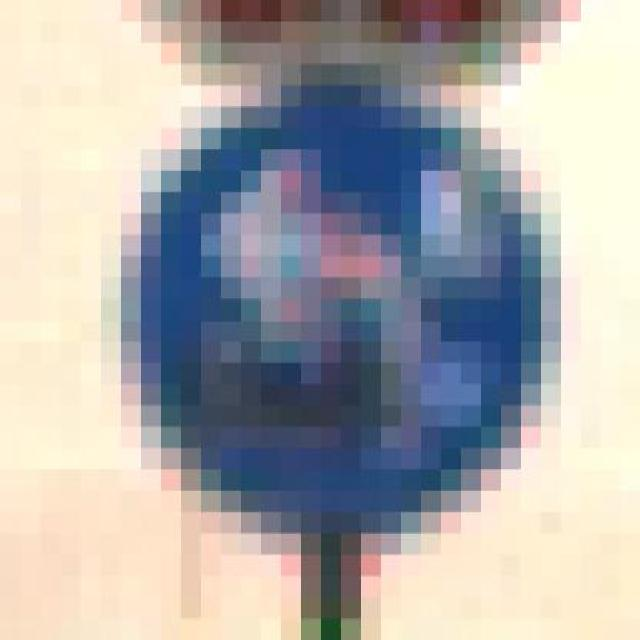Turn left ahead: (111, 83, 571, 574)
